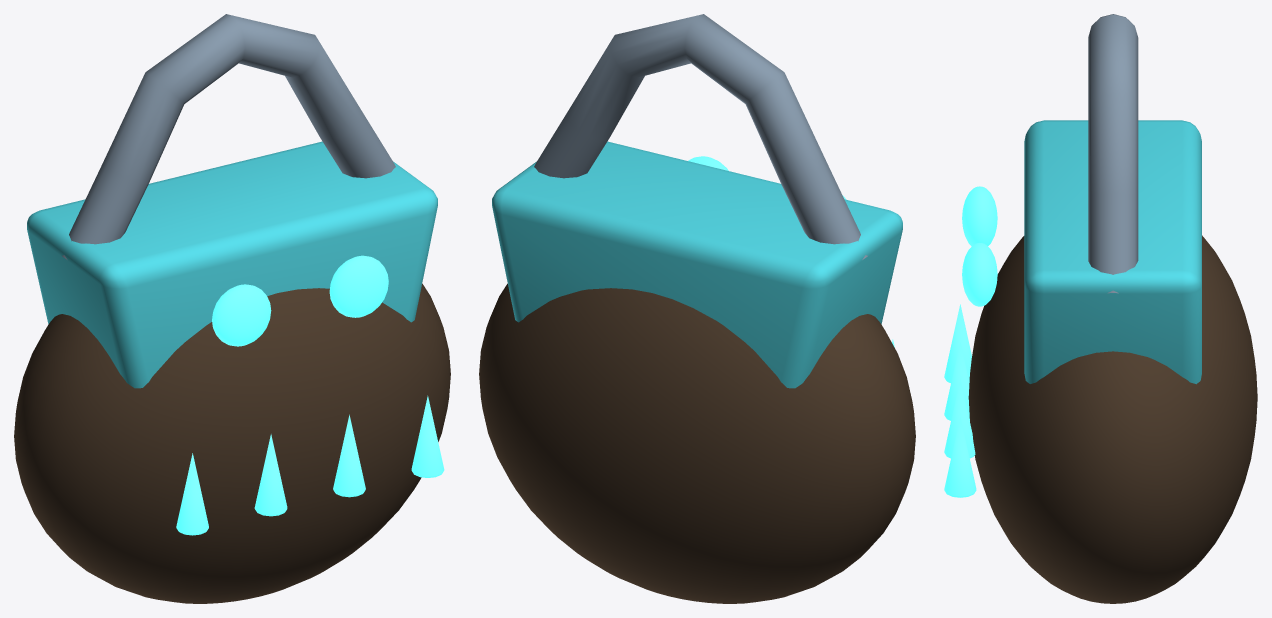
Rendered from mimic_v6.glb.
The picture shows the model from 3 angles, left to right: view 1: azimuth 30°, elevation 25°; view 2: azimuth 150°, elevation 25°; view 3: azimuth 270°, elevation 25°; orthographic projection.
Parts seen in each view (by area): view 1: SATCHEL_BODY_SECONDARY, SATCHEL_FLAP_ACCENT, SATCHEL_STRAP_PRIMARY, EYE_EMISSIVE, EYE_EMISSIVE.001, SATCHEL_TOOTH_EMISSIVE.002, SATCHEL_TOOTH_EMISSIVE.003, SATCHEL_TOOTH_EMISSIVE, SATCHEL_TOOTH_EMISSIVE.001; view 2: SATCHEL_BODY_SECONDARY, SATCHEL_FLAP_ACCENT, SATCHEL_STRAP_PRIMARY; view 3: SATCHEL_BODY_SECONDARY, SATCHEL_FLAP_ACCENT, SATCHEL_STRAP_PRIMARY, EYE_EMISSIVE.001, EYE_EMISSIVE, SATCHEL_TOOTH_EMISSIVE.003, SATCHEL_TOOTH_EMISSIVE.002, SATCHEL_TOOTH_EMISSIVE, SATCHEL_TOOTH_EMISSIVE.001.
Part boxes in pixels (x1=…): SATCHEL_BODY_SECONDARY: x1=14, y1=283, x2=450, y2=603; SATCHEL_FLAP_ACCENT: x1=27, y1=141, x2=437, y2=388; SATCHEL_STRAP_PRIMARY: x1=62, y1=14, x2=395, y2=259; EYE_EMISSIVE: x1=212, y1=284, x2=271, y2=346; EYE_EMISSIVE.001: x1=329, y1=255, x2=388, y2=317; SATCHEL_TOOTH_EMISSIVE.002: x1=333, y1=414, x2=365, y2=497; SATCHEL_TOOTH_EMISSIVE.003: x1=411, y1=395, x2=444, y2=477; SATCHEL_TOOTH_EMISSIVE: x1=176, y1=453, x2=208, y2=535; SATCHEL_TOOTH_EMISSIVE.001: x1=254, y1=434, x2=287, y2=516; SATCHEL_BODY_SECONDARY: x1=479, y1=283, x2=915, y2=603; SATCHEL_FLAP_ACCENT: x1=492, y1=141, x2=902, y2=388; SATCHEL_STRAP_PRIMARY: x1=534, y1=14, x2=867, y2=259; SATCHEL_BODY_SECONDARY: x1=968, y1=235, x2=1257, y2=603; SATCHEL_FLAP_ACCENT: x1=1024, y1=120, x2=1201, y2=384; SATCHEL_STRAP_PRIMARY: x1=1088, y1=14, x2=1138, y2=293; EYE_EMISSIVE.001: x1=962, y1=243, x2=997, y2=306; EYE_EMISSIVE: x1=962, y1=186, x2=997, y2=246; SATCHEL_TOOTH_EMISSIVE.003: x1=944, y1=417, x2=976, y2=497; SATCHEL_TOOTH_EMISSIVE.002: x1=944, y1=379, x2=975, y2=458; SATCHEL_TOOTH_EMISSIVE: x1=944, y1=304, x2=971, y2=383; SATCHEL_TOOTH_EMISSIVE.001: x1=944, y1=342, x2=969, y2=420.
Bounding box in the file's own units: 1.31 × 1.75 × 0.8798.
